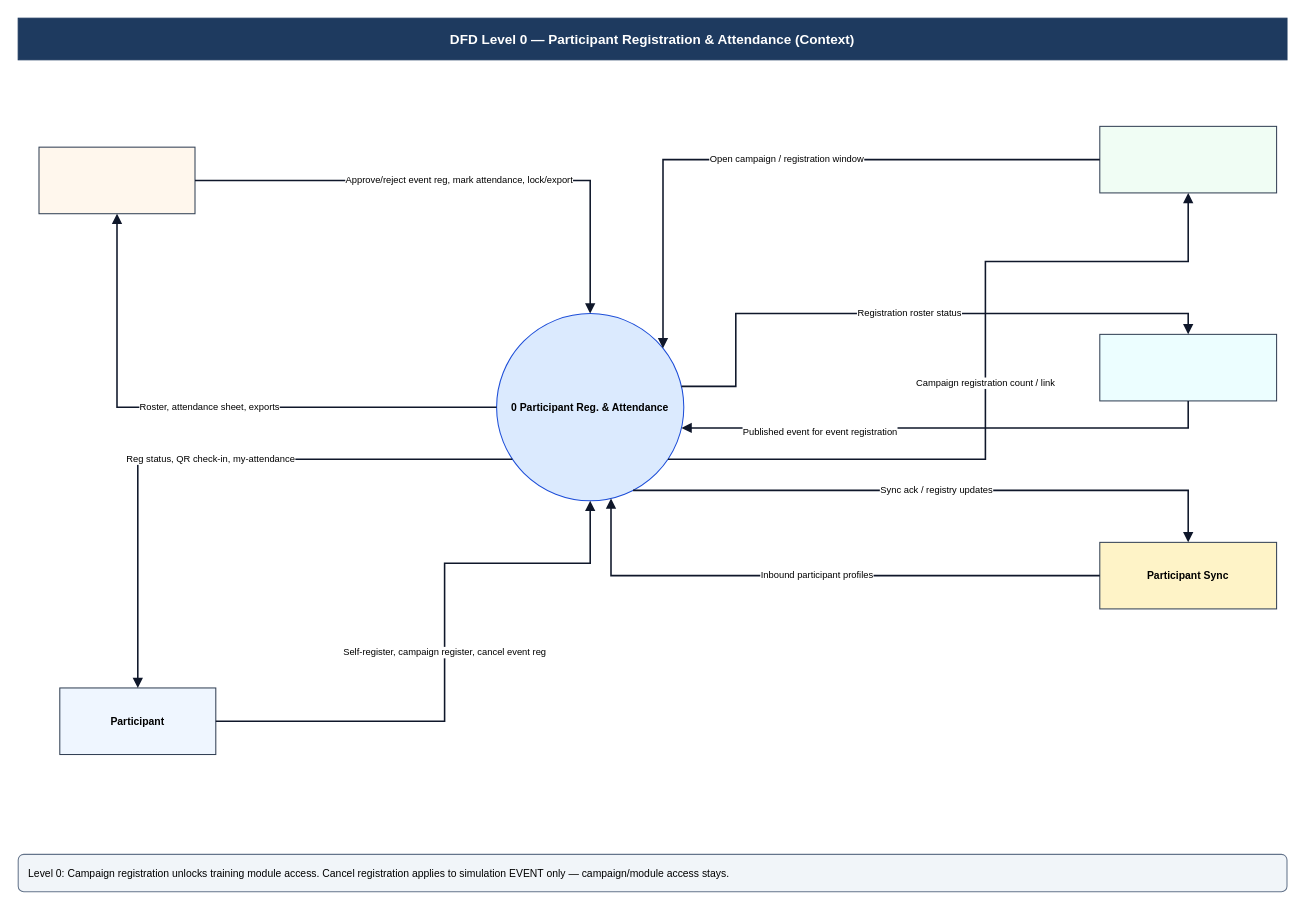
The diagram is 1305 pixels wide and 910 high, and some of its shapes have lost their labels. Each missing label, with the box of its shape:
Campaign Planning (Group 6): (1099, 125, 1277, 193)
Lead Trainer / Admin / Evaluator: (38, 146, 195, 214)
Simulation Event Planning: (1099, 333, 1277, 401)
